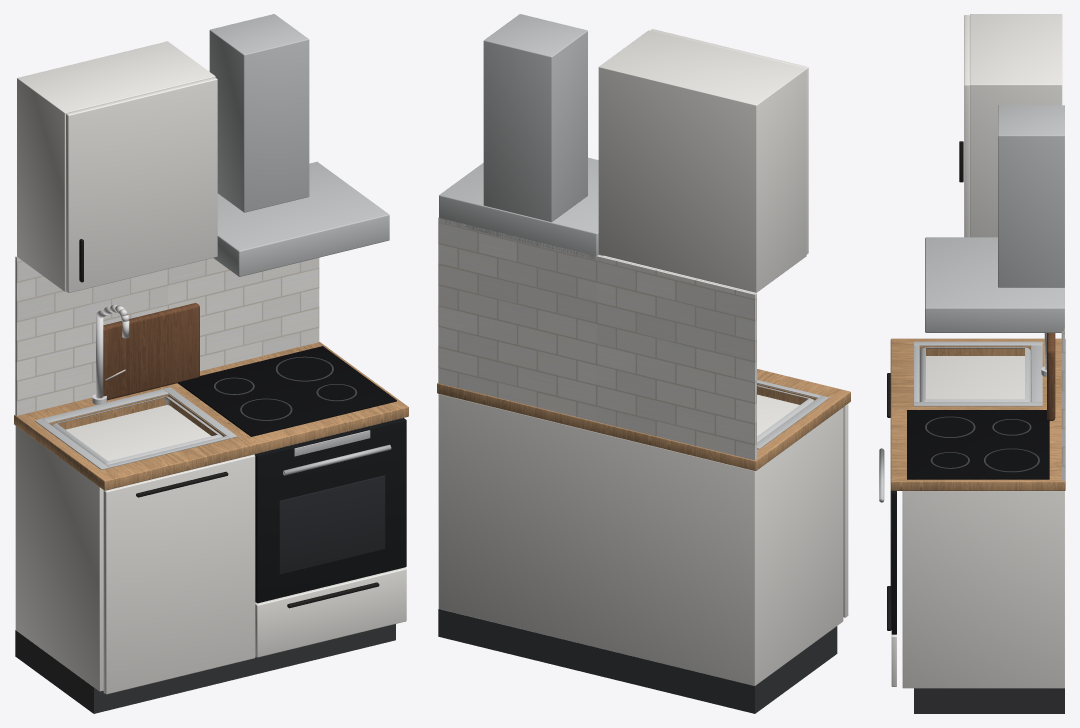
Rendered from kitchen-compact.glb.
3 renders of one model, left to right at view 1: azimuth 30°, elevation 25°; view 2: azimuth 150°, elevation 25°; view 3: azimuth 270°, elevation 25°, orthographic. The views are drawn at different scales.
Parts seen in each view (by area): view 1: door, upper-door, splash, carcass, chimney, upper, oven, worktop, hood, oven-drawer, oven-window, hob (+9 smaller); view 2: carcass, splash, upper, chimney, plinth, worktop, hood, door, upper-door; view 3: carcass, chimney, upper, hood, worktop, hob, plinth, upper-door, sink-bowl, zone-in.003, oven, board (+10 smaller).
Part boxes in pixels (x1,y1,x2,y2): door: (103,454,255,694); upper-door: (66,77,217,292); splash: (15,256,319,415); carcass: (15,405,256,691); chimney: (209,14,309,212); upper: (17,41,215,291); oven: (255,418,406,603); worktop: (14,342,408,490); hood: (213,162,389,276); oven-drawer: (255,567,406,657); oven-window: (279,475,385,574); hob: (178,346,396,436); carcass: (438,394,843,685); splash: (438,217,756,460); upper: (598,30,806,292); chimney: (483,14,587,222); plinth: (438,609,837,713); worktop: (437,369,850,470); hood: (439,157,602,259); door: (843,404,848,617); upper-door: (650,29,808,254); carcass: (902,356,1064,688); chimney: (998,105,1064,287); upper: (970,14,1062,237); hood: (925,237,1064,332); worktop: (890,338,1065,490); hob: (907,410,1049,479); plinth: (914,688,1064,713); upper-door: (964,15,969,237); sink-bowl: (920,347,1030,401); zone-in.003: (985,449,1038,471); oven: (891,491,896,634); board: (1047,333,1055,420).
Size of the model in its own units: 1.21 by 2.2 by 0.6665.
Materials: 13 (3 with a texture image).
